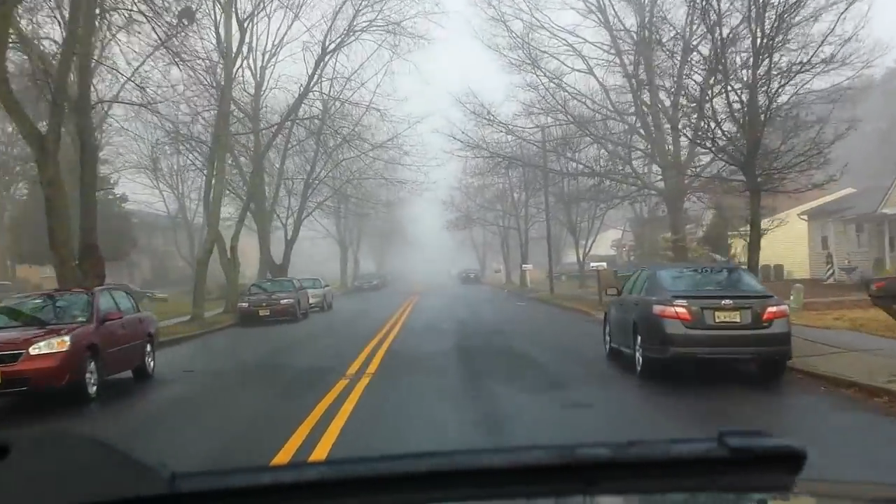car: (600, 261, 798, 389), (1, 282, 161, 405), (237, 277, 309, 321), (288, 275, 335, 312), (545, 261, 602, 283), (353, 271, 383, 290), (458, 268, 480, 284)
